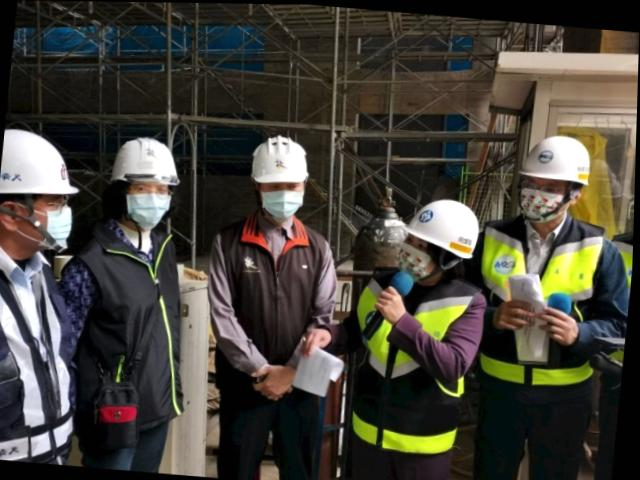helmet: (0, 124, 83, 200), (402, 197, 487, 255), (519, 129, 592, 185), (112, 131, 187, 184), (248, 132, 309, 189)
vest: (341, 273, 478, 447), (479, 211, 604, 384), (0, 254, 79, 464), (603, 240, 635, 363)
